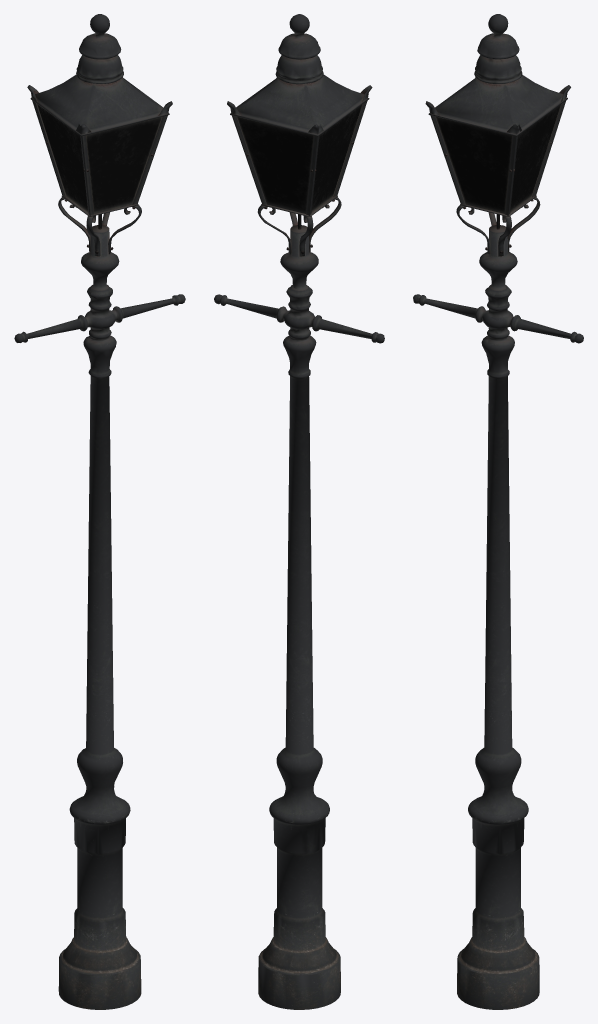
The model's file is street_lamp_01_1k.gltf.
3 views of the same model, side by side, from view 1: azimuth 30°, elevation 25°; view 2: azimuth 150°, elevation 25°; view 3: azimuth 330°, elevation 25° (orthographic).
Parts seen in each view (by area): view 1: street_lamp_01; view 2: street_lamp_01; view 3: street_lamp_01.
Part boxes in pixels (bbox=[...]): street_lamp_01: bbox=[14, 14, 185, 1009]; street_lamp_01: bbox=[214, 14, 384, 1009]; street_lamp_01: bbox=[413, 14, 583, 1009].
Size of the model in its own units: 0.7034 by 3.87 by 0.3857.
Materials: 3 (3 with a texture image).
